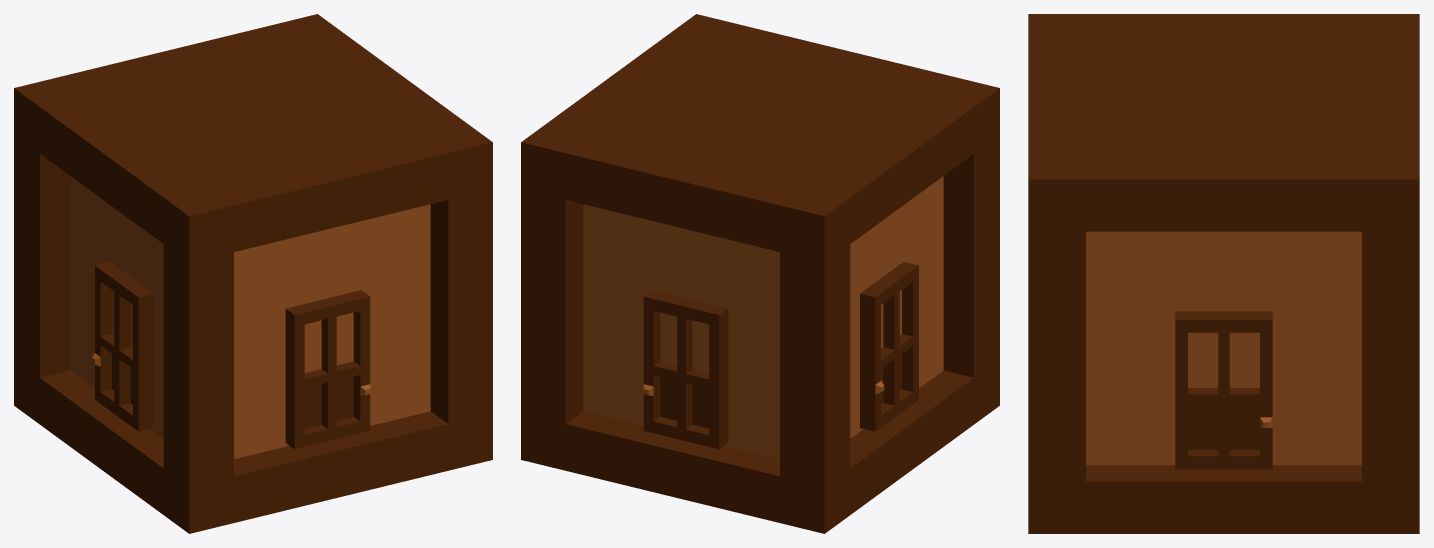
File: City1House6.fbx
3 renders of one model, left to right at view 1: azimuth 30°, elevation 25°; view 2: azimuth 150°, elevation 25°; view 3: azimuth 270°, elevation 25°, orthographic. The views are drawn at different scales.
Parts seen in each view (by area): view 1: Cube.033; view 2: Cube.033; view 3: Cube.033.
Boxes of the visible parts, x1,y1,x2,y2 form: Cube.033: [14, 14, 492, 533]; Cube.033: [521, 14, 999, 533]; Cube.033: [1028, 14, 1419, 533].
Size of the model in its own units: 100 by 100 by 100.
